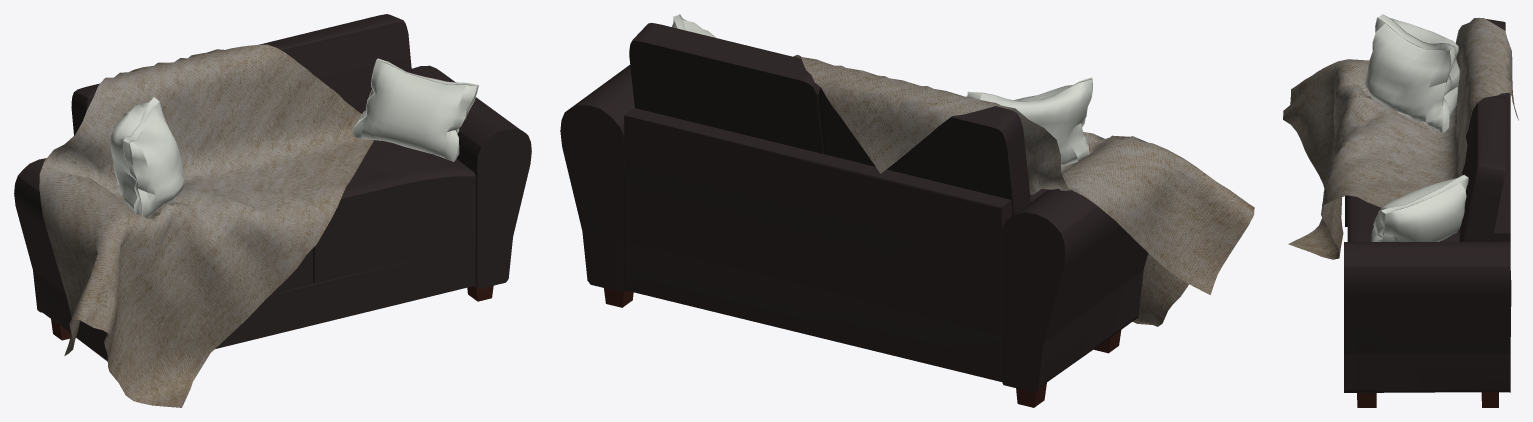
The picture shows the model from 3 angles, left to right: view 1: azimuth 30°, elevation 25°; view 2: azimuth 150°, elevation 25°; view 3: azimuth 270°, elevation 25°; orthographic projection. The views are drawn at different scales.
Visible parts, largest first — view 1: pPlane1, pCube9, polySurface10, polySurface11; view 2: pCube9, pPlane1, polySurface11; view 3: pCube9, pPlane1, polySurface11, polySurface10.
Boxes of the visible parts, x1,y1,x2,y2 form: pPlane1: (39,44,373,407); pCube9: (14,14,531,361); polySurface10: (351,58,478,161); polySurface11: (110,96,183,216); pCube9: (560,23,1148,407); pPlane1: (793,54,1254,326); polySurface11: (967,77,1092,166); pCube9: (1344,19,1511,407); pPlane1: (1283,18,1518,259); polySurface11: (1365,14,1460,133); polySurface10: (1371,174,1468,241).
Bounding box in the file's own units: 17.68 × 8.53 × 7.75.
Materials: 6 (1 with a texture image).
